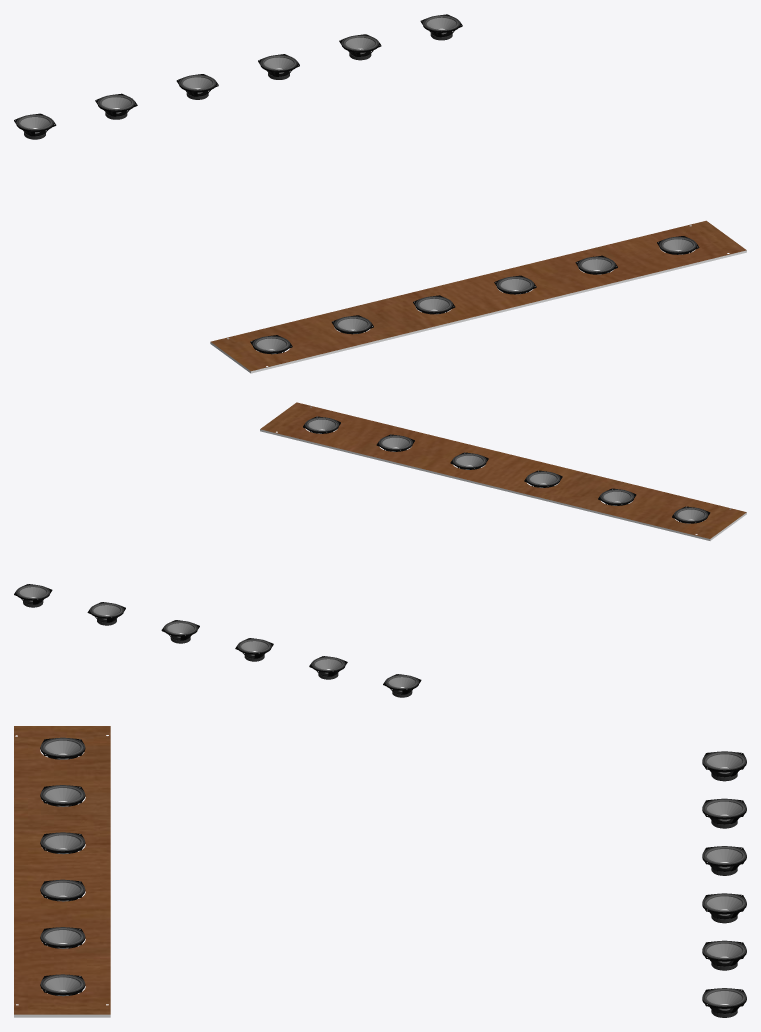
The model's file is ArrayOfSPeakersTable.obj.
3 views of the same model, one above another, from view 1: azimuth 30°, elevation 25°; view 2: azimuth 150°, elevation 25°; view 3: azimuth 270°, elevation 25° (orthographic). The views are drawn at different scales.
Parts seen in each view (by area): view 1: Mesh7 Group1 Model, Mesh8 Component_1_7 Model, Mesh11 Component_1_10 Model, Mesh9 Component_1_8 Model, Mesh10 Component_1_9 Model, Mesh13 Component_1_12 Model, Mesh12 Component_1_11 Model, Mesh4 Component_1_4 Group1 Model, Mesh1 Component_1_1 Group1 Model, Mesh2 Component_1_2 Group1 Model, Mesh5 Component_1_5 Group1 Model, Mesh3 Component_1_3 Group1 Model (+1 smaller); view 2: Mesh7 Group1 Model, Mesh8 Component_1_7 Model, Mesh11 Component_1_10 Model, Mesh9 Component_1_8 Model, Mesh10 Component_1_9 Model, Mesh12 Component_1_11 Model, Mesh13 Component_1_12 Model, Mesh4 Component_1_4 Group1 Model, Mesh5 Component_1_5 Group1 Model, Mesh1 Component_1_1 Group1 Model, Mesh6 Component_1_6 Group1 Model, Mesh3 Component_1_3 Group1 Model (+1 smaller); view 3: Mesh7 Group1 Model, Mesh12 Component_1_11 Model, Mesh8 Component_1_7 Model, Mesh9 Component_1_8 Model, Mesh10 Component_1_9 Model, Mesh11 Component_1_10 Model, Mesh13 Component_1_12 Model, Mesh2 Component_1_2 Group1 Model, Mesh4 Component_1_4 Group1 Model, Mesh3 Component_1_3 Group1 Model, Mesh5 Component_1_5 Group1 Model, Mesh1 Component_1_1 Group1 Model (+1 smaller).
Boxes of the visible parts, x1,y1,x2,y2 form: Mesh7 Group1 Model: (210, 220, 746, 373); Mesh8 Component_1_7 Model: (420, 14, 462, 40); Mesh11 Component_1_10 Model: (95, 93, 137, 119); Mesh9 Component_1_8 Model: (14, 113, 56, 139); Mesh10 Component_1_9 Model: (176, 74, 218, 99); Mesh13 Component_1_12 Model: (339, 34, 381, 60); Mesh12 Component_1_11 Model: (258, 54, 299, 79); Mesh4 Component_1_4 Group1 Model: (494, 275, 536, 294); Mesh1 Component_1_1 Group1 Model: (413, 295, 455, 314); Mesh2 Component_1_2 Group1 Model: (250, 335, 292, 354); Mesh5 Component_1_5 Group1 Model: (575, 255, 617, 274); Mesh3 Component_1_3 Group1 Model: (331, 315, 373, 334); Mesh7 Group1 Model: (260, 402, 746, 540); Mesh8 Component_1_7 Model: (14, 584, 52, 607); Mesh11 Component_1_10 Model: (309, 656, 347, 679); Mesh9 Component_1_8 Model: (383, 674, 421, 697); Mesh10 Component_1_9 Model: (235, 638, 273, 661); Mesh12 Component_1_11 Model: (161, 620, 199, 643); Mesh13 Component_1_12 Model: (87, 602, 125, 625); Mesh4 Component_1_4 Group1 Model: (450, 452, 488, 469); Mesh5 Component_1_5 Group1 Model: (376, 434, 414, 451); Mesh1 Component_1_1 Group1 Model: (524, 470, 562, 487); Mesh6 Component_1_6 Group1 Model: (303, 416, 340, 433); Mesh3 Component_1_3 Group1 Model: (598, 488, 636, 505); Mesh7 Group1 Model: (14, 726, 110, 1017); Mesh12 Component_1_11 Model: (702, 893, 746, 923); Mesh8 Component_1_7 Model: (702, 988, 746, 1017); Mesh9 Component_1_8 Model: (702, 751, 746, 781); Mesh10 Component_1_9 Model: (702, 846, 746, 875); Mesh11 Component_1_10 Model: (702, 798, 746, 828); Mesh13 Component_1_12 Model: (702, 940, 746, 970); Mesh2 Component_1_2 Group1 Model: (40, 737, 85, 759); Mesh4 Component_1_4 Group1 Model: (40, 879, 85, 901); Mesh3 Component_1_3 Group1 Model: (40, 785, 85, 806); Mesh5 Component_1_5 Group1 Model: (40, 927, 85, 948); Mesh1 Component_1_1 Group1 Model: (40, 832, 85, 854).
Size of the model in its own units: 1862 by 76 by 1963.
7 materials, 2 textured.
